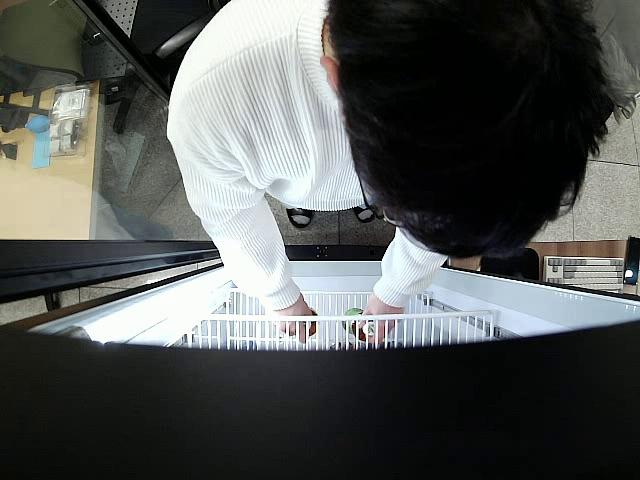00_hand: (355, 290, 403, 347), (273, 299, 312, 343)
19_17cha: (341, 308, 376, 337)
